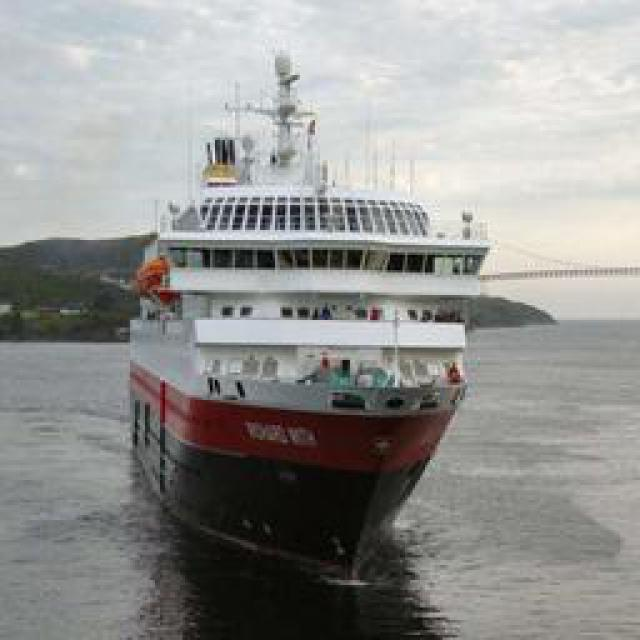Ship: (124, 64, 494, 587)
